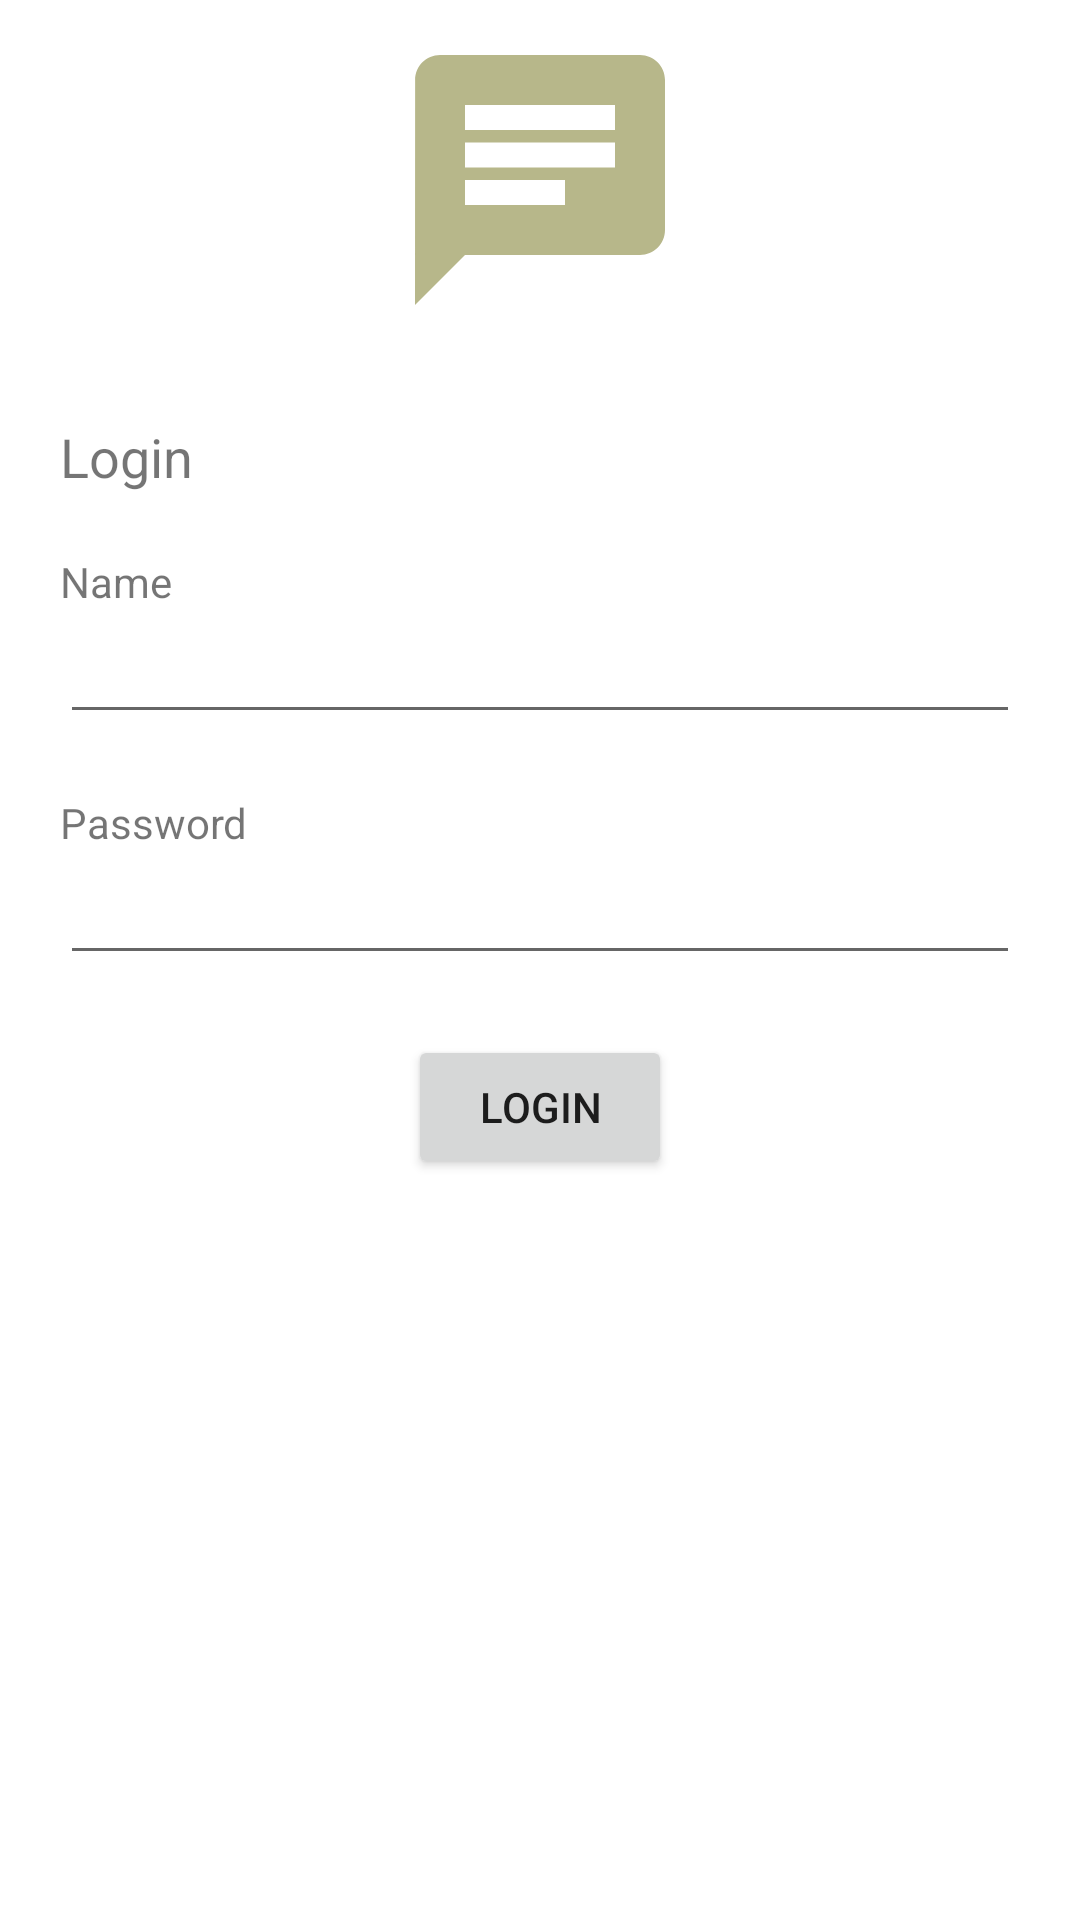

Screen size 1080x1920. Icon name, then its center in pixels as (x,y):
chat: (540,180)
